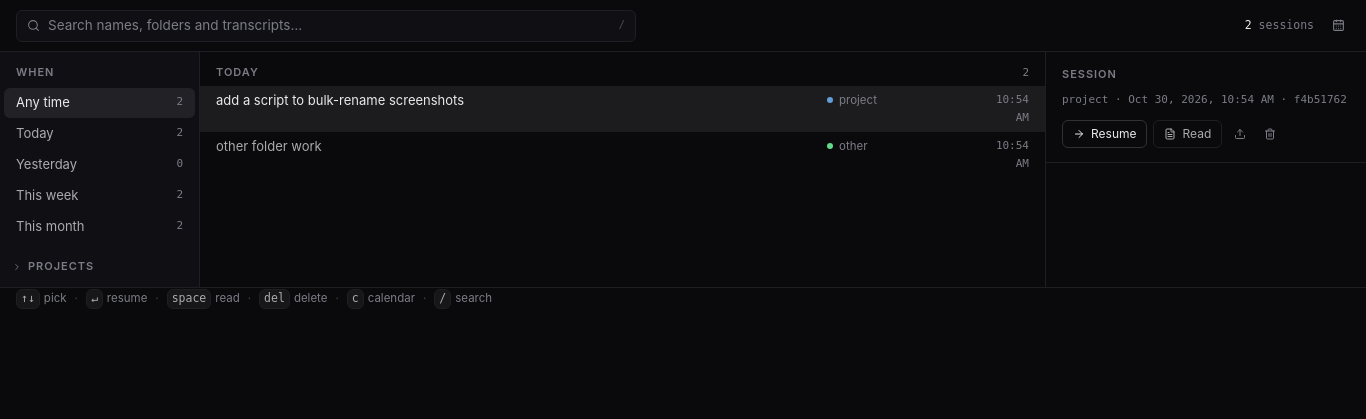
Scenario: SessionHistoryPanel › filters › keeps the project list folded until opened
Expected: the text "other folder work" is shown, 216,138 -> 322,154
Click the button "Projects" at (100, 266), box 4,254 -> 195,278
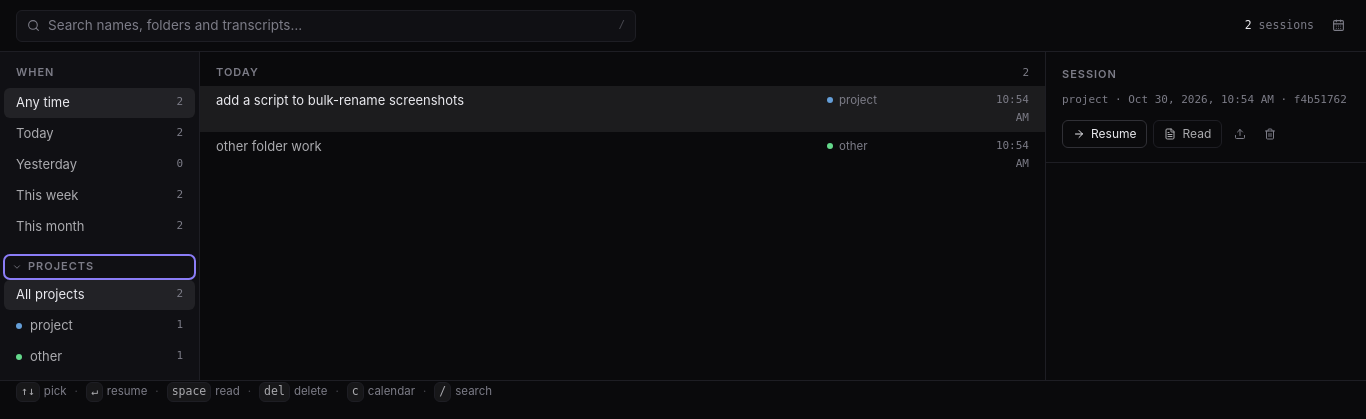
Click the button "other 1" at (100, 356), box 4,342 -> 195,372
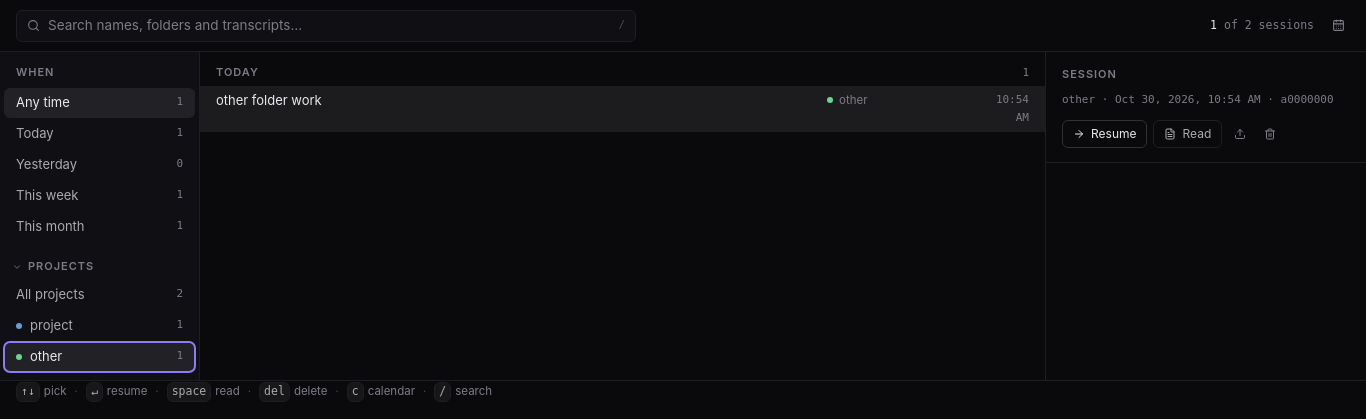
Expected: the text "other folder work" is shown, 216,92 -> 322,108
Expected: the option "add a script to bulk-rename screenshots" is gone
